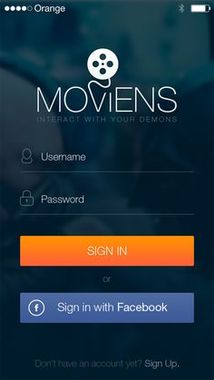button: (18, 234, 197, 269), (18, 290, 197, 325)
field_line: (17, 187, 194, 217), (18, 145, 193, 174)
